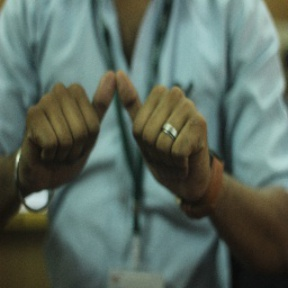A: (42, 64, 182, 164)
